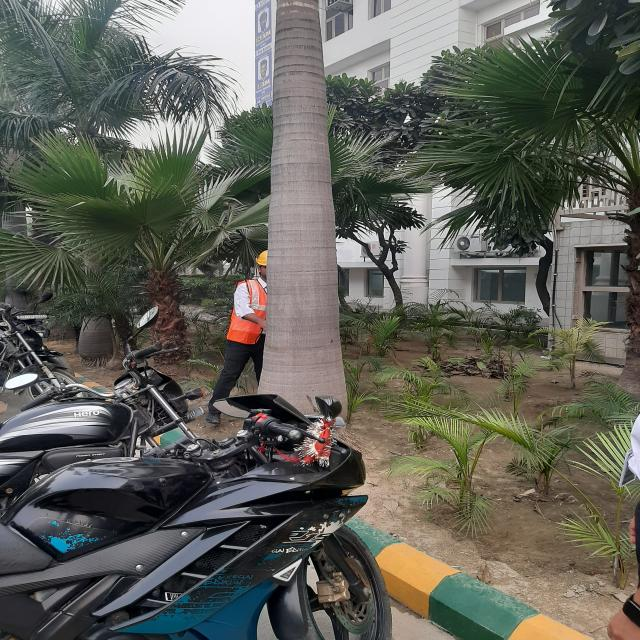safe: (208, 250, 266, 426)
